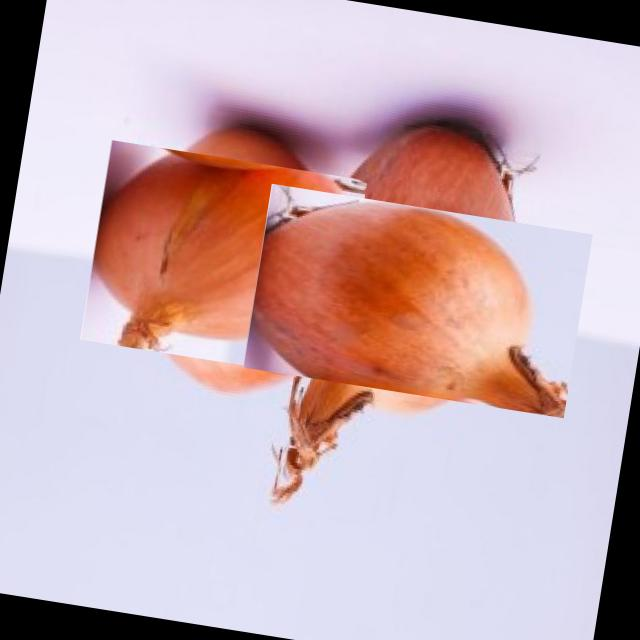Onion: (272, 154, 564, 446), (92, 128, 356, 392)
